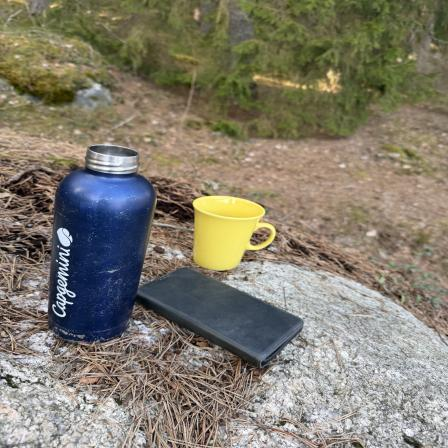blue_bottle: (49, 141, 148, 343)
phone: (136, 263, 314, 365)
yellow_cup: (195, 195, 279, 272)
